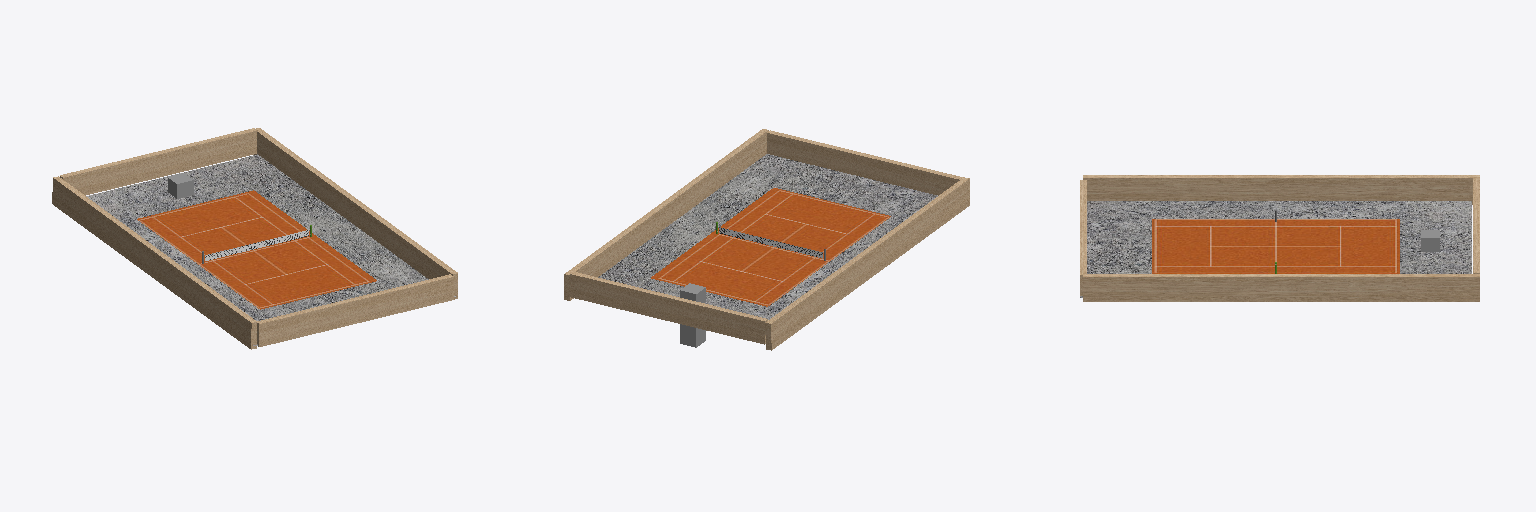
3 renders of one model, left to right at view 1: azimuth 30°, elevation 25°; view 2: azimuth 150°, elevation 25°; view 3: azimuth 270°, elevation 25°, orthographic.
Visible parts, largest first — view 1: Plane.002_Plane.004, Plane_Plane.001, Cube.001_Cube.003, Cube_Cube.002, Cube.003_Cube.005, Cube.002_Cube.004, Plane.001_Plane, Cube.008; view 2: Plane.002_Plane.004, Plane_Plane.001, Cube.001_Cube.003, Cube_Cube.002, Cube.002_Cube.004, Cube.003_Cube.005, Cube.008, Plane.001_Plane; view 3: Plane.002_Plane.004, Plane_Plane.001, Cube_Cube.002, Cube.001_Cube.003, Cube.003_Cube.005, Cube.002_Cube.004.
Boxes of the visible parts, box(x1,y1,x2,y2) form: Plane.002_Plane.004: box(86, 154, 455, 345); Plane_Plane.001: box(137, 190, 376, 309); Cube.001_Cube.003: box(52, 176, 256, 349); Cube_Cube.002: box(254, 128, 457, 299); Cube.003_Cube.005: box(257, 274, 453, 346); Cube.002_Cube.004: box(60, 128, 257, 195); Plane.001_Plane: box(205, 230, 308, 260); Cube.008: box(168, 173, 193, 198); Plane.002_Plane.004: box(598, 154, 937, 319); Plane_Plane.001: box(651, 188, 890, 306); Cube.001_Cube.003: box(765, 177, 969, 350); Cube_Cube.002: box(564, 129, 768, 300); Cube.002_Cube.004: box(570, 272, 767, 344); Cube.003_Cube.005: box(767, 130, 963, 195); Cube.008: box(680, 283, 705, 347); Plane.001_Plane: box(719, 227, 822, 258); Plane.002_Plane.004: box(1080, 201, 1471, 297); Plane_Plane.001: box(1152, 219, 1399, 273); Cube_Cube.002: box(1083, 274, 1479, 301); Cube.001_Cube.003: box(1083, 175, 1479, 204); Cube.003_Cube.005: box(1080, 180, 1086, 295); Cube.002_Cube.004: box(1473, 178, 1479, 273).
Bounding box in the file's own units: 24.99 × 7.17 × 41.76.
11 materials, 7 textured.